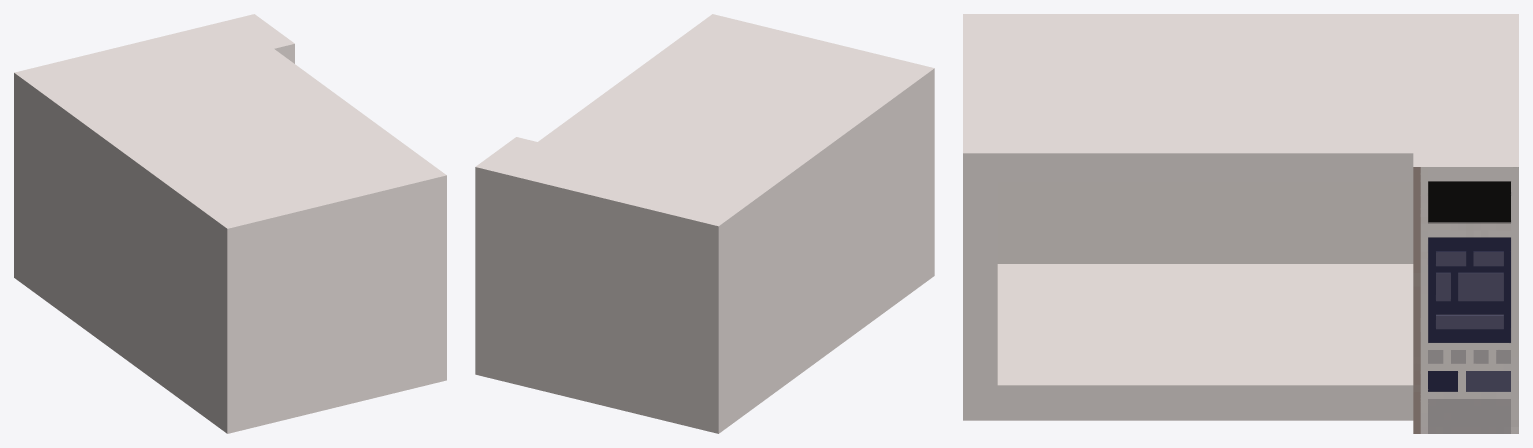
The model's file is microwawe 1.obj.
3 renders of one model, left to right at view 1: azimuth 30°, elevation 25°; view 2: azimuth 150°, elevation 25°; view 3: azimuth 270°, elevation 25°, orthographic. The views are drawn at different scales.
Parts seen in each view (by area): view 1: case; view 2: case; view 3: case.
Boxes of the visible parts, x1,y1,x2,y2 form: case: (14, 14, 446, 433); case: (475, 14, 934, 433); case: (963, 14, 1518, 433).
Size of the model in its own units: 1.3 by 1.06 by 2.
